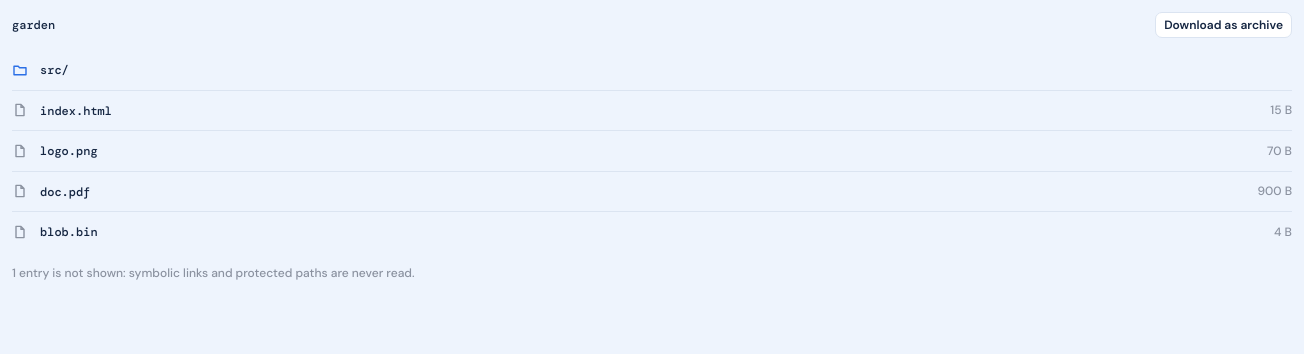
the Files panel › says the cap when a folder is too big to archive
The image size is (1304, 354).
Check: the text "src/" is shown, box [40,62,69,78]
What coordinates should you click on to do the following:
click the button "Download as archive"
I would click on:
 (1224, 25)
Its box is [1155,12,1292,38].
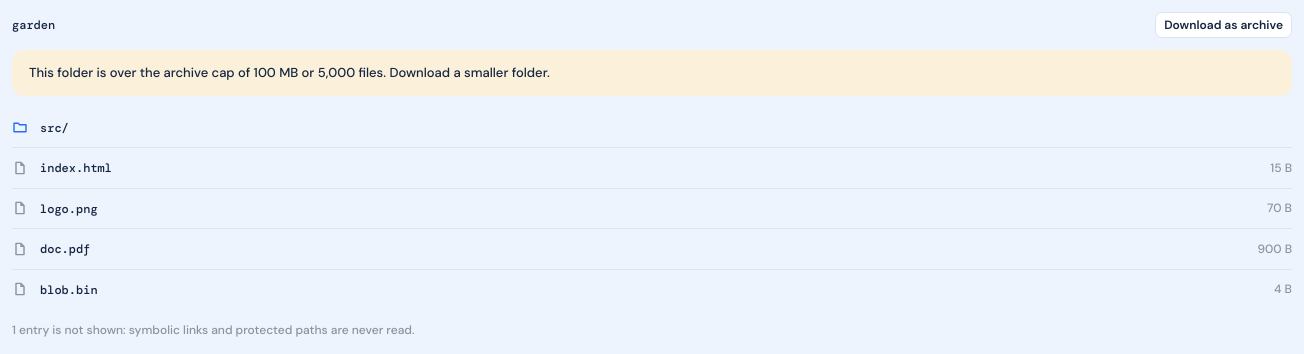
Check: the message shows "archive cap of 100 MB or 5,000 files", box [29,64,550,81]
